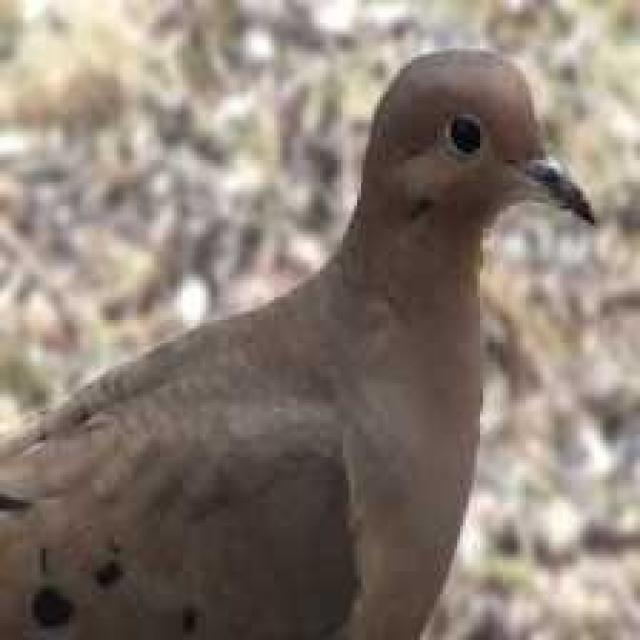bird: (0, 25, 609, 640)
